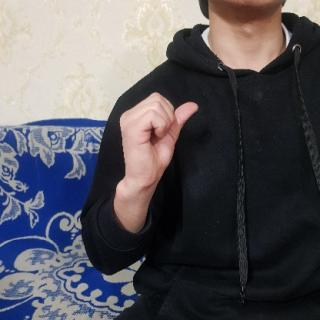WAW: (114, 90, 200, 186)
